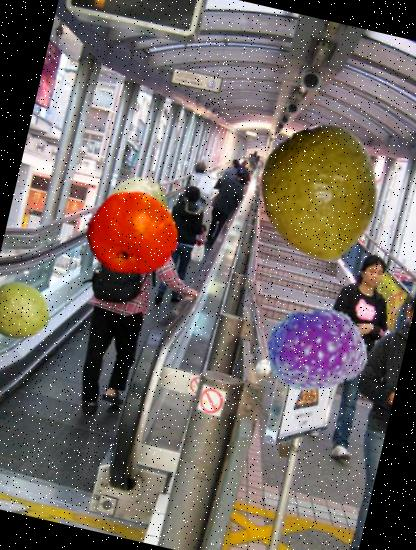Clementine: (73, 175, 188, 290)
Guava: (240, 114, 402, 275)
Limes: (100, 168, 176, 244), (0, 274, 57, 350)
Raspberry: (254, 288, 379, 413)
